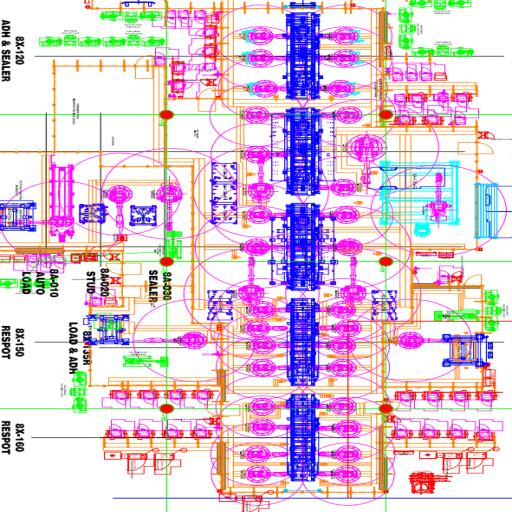robot: (346, 130, 388, 186), (152, 178, 187, 234), (419, 171, 454, 224), (138, 328, 212, 353), (103, 184, 135, 232), (248, 151, 276, 200), (16, 214, 78, 235), (339, 256, 366, 301), (235, 443, 291, 463), (236, 238, 294, 257), (240, 258, 266, 300), (306, 446, 363, 464), (311, 417, 362, 437), (242, 26, 294, 45), (244, 397, 296, 416), (313, 48, 361, 68), (245, 204, 290, 225), (314, 26, 361, 46), (242, 49, 294, 67), (246, 80, 298, 98), (244, 356, 290, 376), (240, 466, 288, 485), (318, 104, 363, 124), (311, 466, 363, 483), (238, 106, 287, 124), (311, 398, 360, 416), (246, 417, 294, 435), (316, 204, 359, 224), (246, 300, 292, 317), (315, 359, 358, 377), (316, 320, 363, 336), (246, 320, 290, 337), (310, 241, 366, 254), (314, 81, 355, 96)
